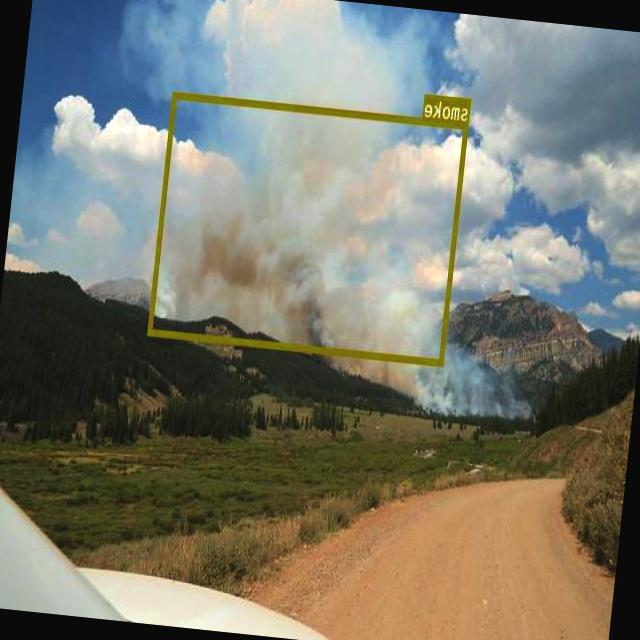smoke: (148, 90, 469, 365)
